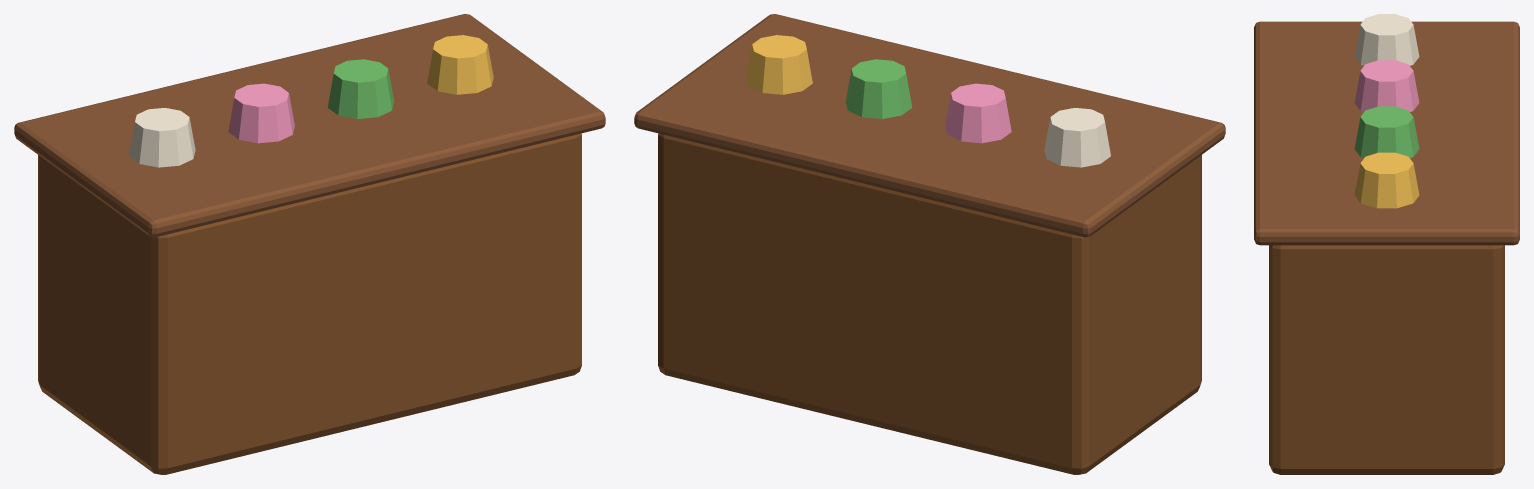
Rendered from quay.glb.
3 views of the same model, side by side, from view 1: azimuth 30°, elevation 25°; view 2: azimuth 150°, elevation 25°; view 3: azimuth 270°, elevation 25° (orthographic). The views are drawn at different scales.
Visible parts, largest first — view 1: quay-0, quay-1, quay-4, quay-5, quay-2, quay-3; view 2: quay-0, quay-1, quay-4, quay-5, quay-2, quay-3; view 3: quay-0, quay-1, quay-5, quay-3, quay-2, quay-4.
Boxes of the visible parts, left/top/right/bottom form: quay-0: left=38, top=133, right=581, bottom=474; quay-1: left=14, top=14, right=605, bottom=237; quay-4: left=327, top=59, right=394, bottom=118; quay-5: left=427, top=35, right=493, bottom=94; quay-2: left=129, top=108, right=195, bottom=167; quay-3: left=228, top=83, right=294, bottom=143; quay-0: left=658, top=133, right=1201, bottom=474; quay-1: left=634, top=14, right=1225, bottom=237; quay-4: left=845, top=59, right=912, bottom=118; quay-5: left=746, top=35, right=812, bottom=94; quay-2: left=1044, top=108, right=1110, bottom=167; quay-3: left=945, top=83, right=1011, bottom=143; quay-0: left=1269, top=245, right=1504, bottom=474; quay-1: left=1254, top=21, right=1519, bottom=245; quay-5: left=1354, top=152, right=1419, bottom=208; quay-3: left=1354, top=60, right=1419, bottom=111; quay-2: left=1354, top=14, right=1419, bottom=65; quay-4: left=1354, top=106, right=1419, bottom=157.
Size of the model in its own units: 1.7 by 1.07 by 0.9.
